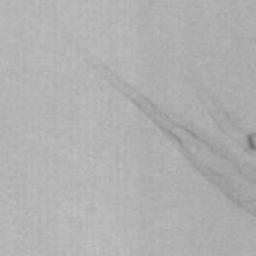Water spot: (88, 61, 256, 221)
